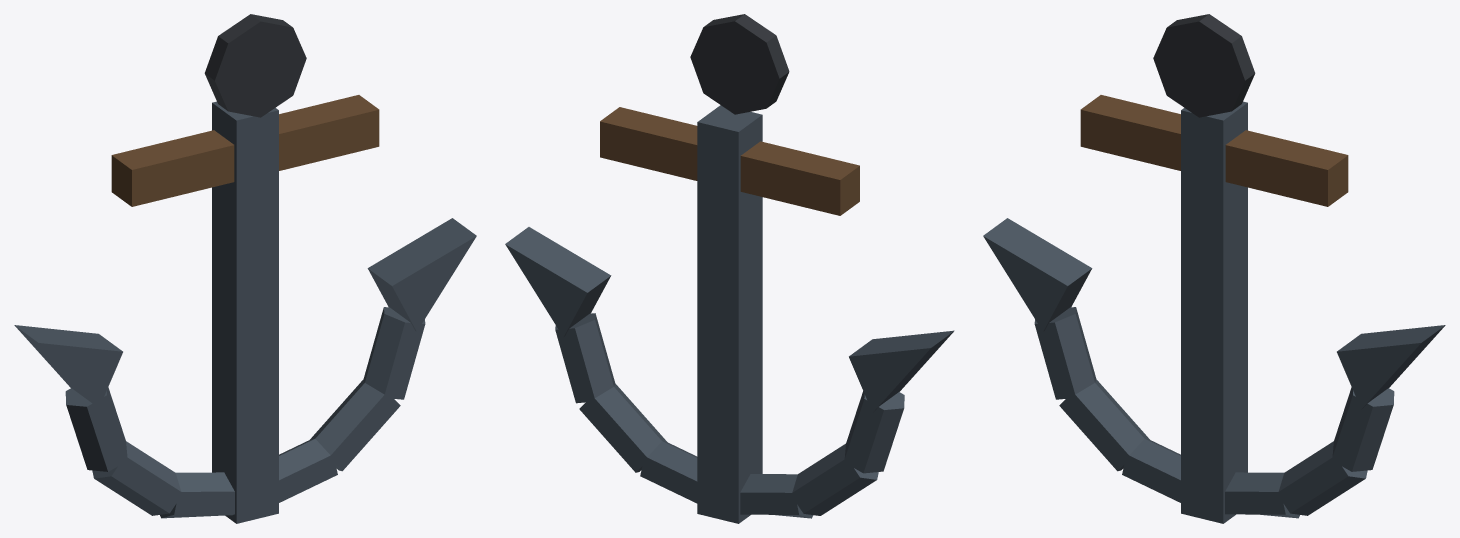
The model's file is Anchor.glb.
The picture shows the model from 3 angles, left to right: view 1: azimuth 30°, elevation 25°; view 2: azimuth 150°, elevation 25°; view 3: azimuth 330°, elevation 25°; orthographic projection. The views are drawn at different scales.
Visible parts, largest first — view 1: Anchor; view 2: Anchor; view 3: Anchor.
Boxes of the visible parts, x1,y1,x2,y2 form: Anchor: (14, 14, 476, 523); Anchor: (505, 14, 954, 523); Anchor: (983, 14, 1445, 523).
Bounding box in the file's own units: 1.24 × 1.35 × 0.135.
1 material, 1 textured.
